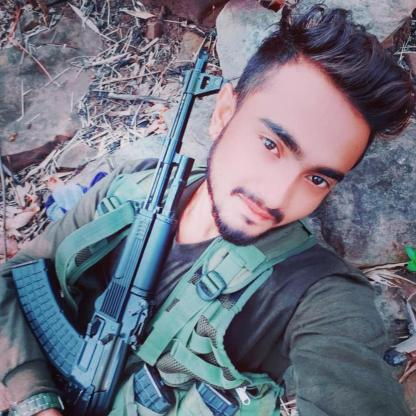rifle: (6, 51, 228, 416)
